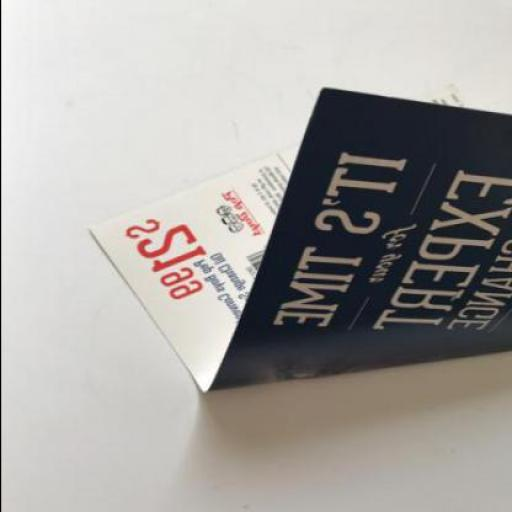paper: (85, 84, 511, 392)
